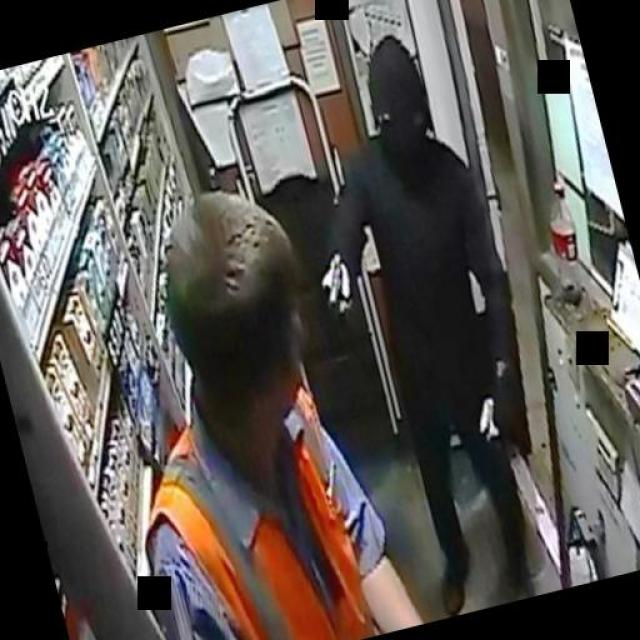gun: (316, 256, 356, 324)
